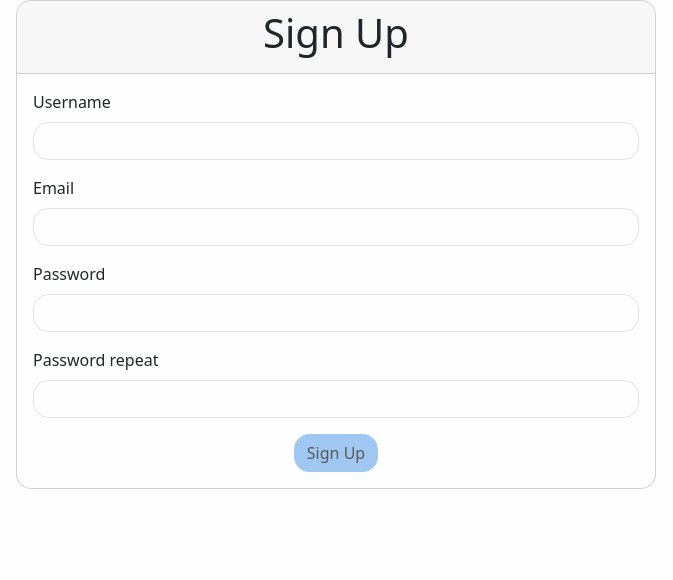
it: Sign Up › when user sets same value for password inputs › when user submits again › hides error when api request is in progress
Type "user1" into the field labelled "Username" at (336, 141), box [33,122,639,160]
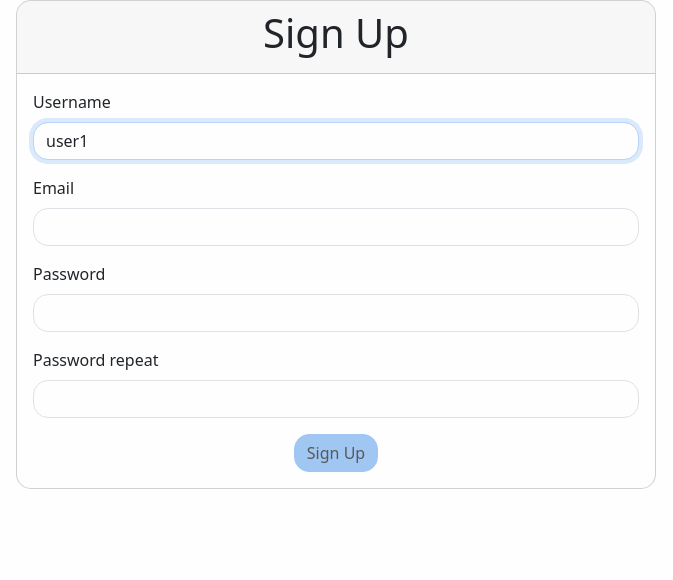
Type "user1@mail.com" into the field labelled "Email" at (336, 227), box [33,208,639,246]
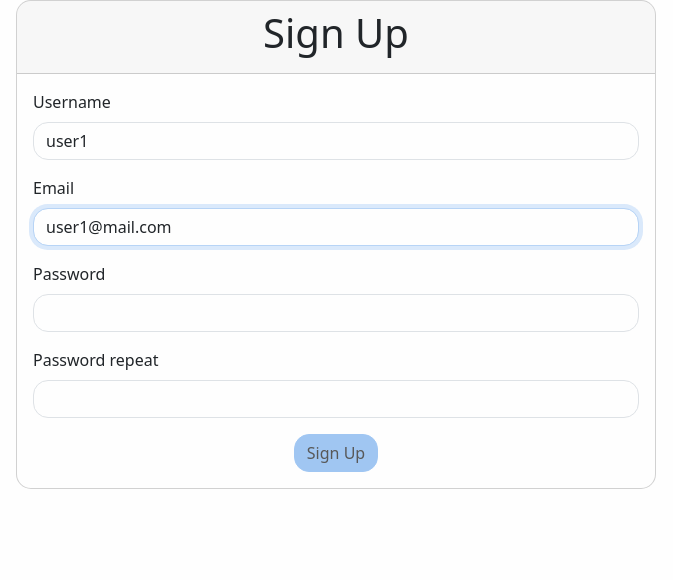
Type "P4ssword" into the password field labelled "Password" at (336, 313), box [33,294,639,332]
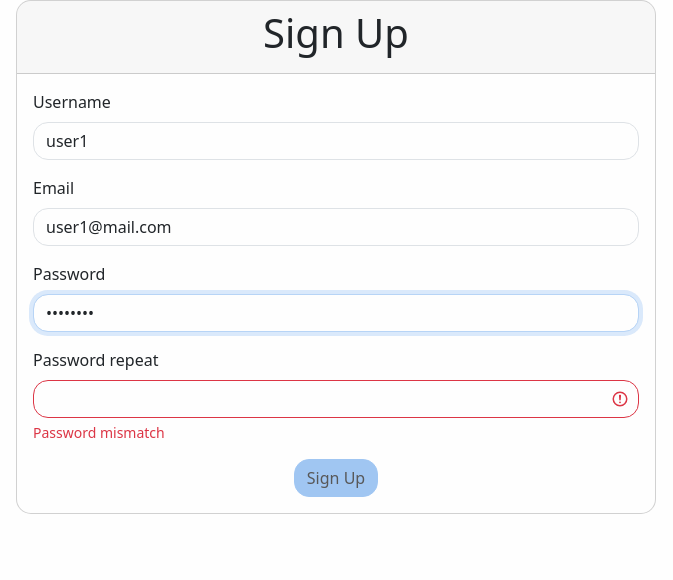
Type "P4ssword" into the password field labelled "Password repeat" at (336, 399), box [33,380,639,418]
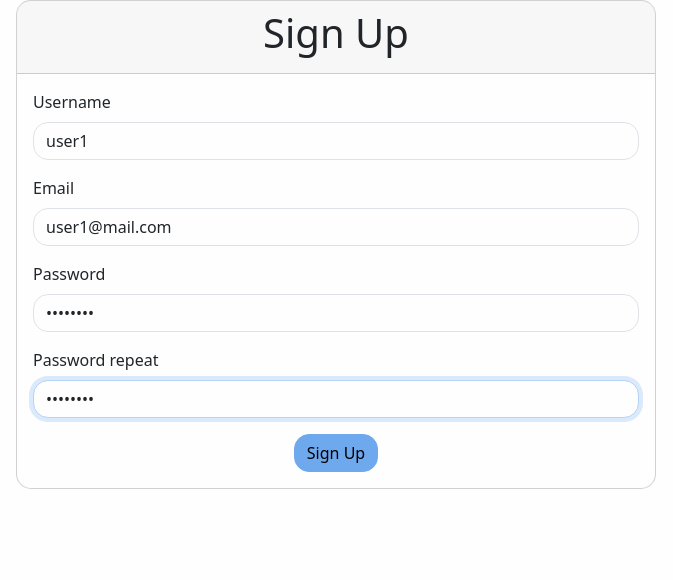
Click the button "Sign Up" at (336, 453), box [294,434,378,472]
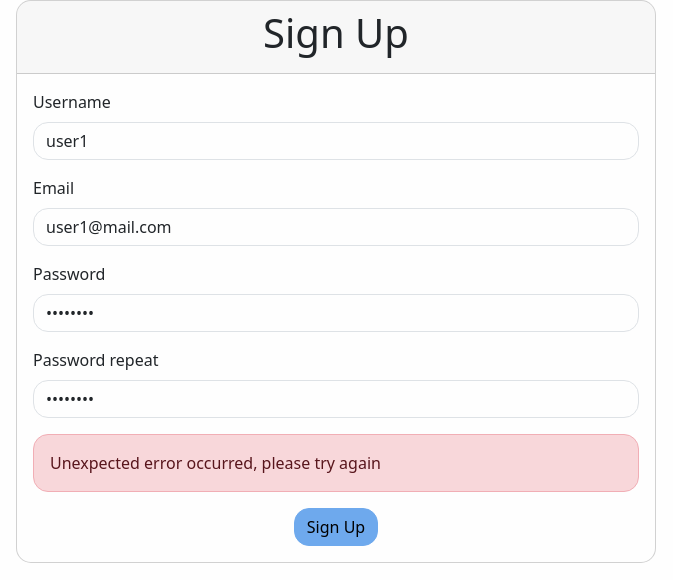
Click the button "Sign Up" at (336, 527), box [294,508,378,546]
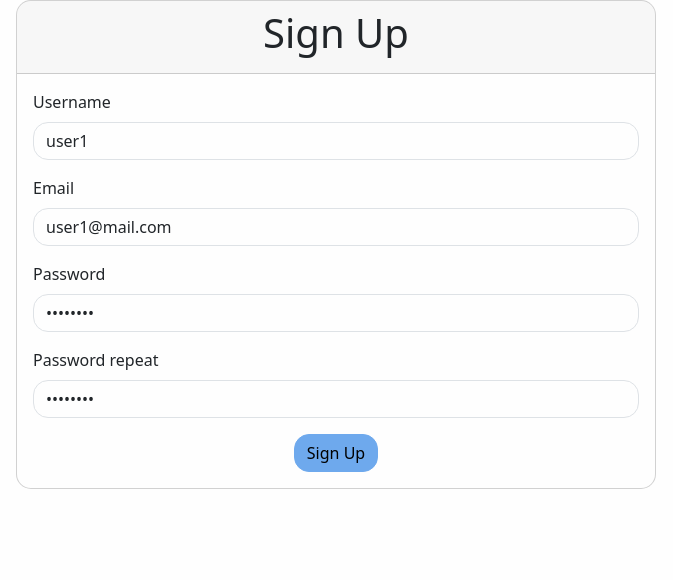
Expected: the text "Unexpected error occurred, please try again" is gone
